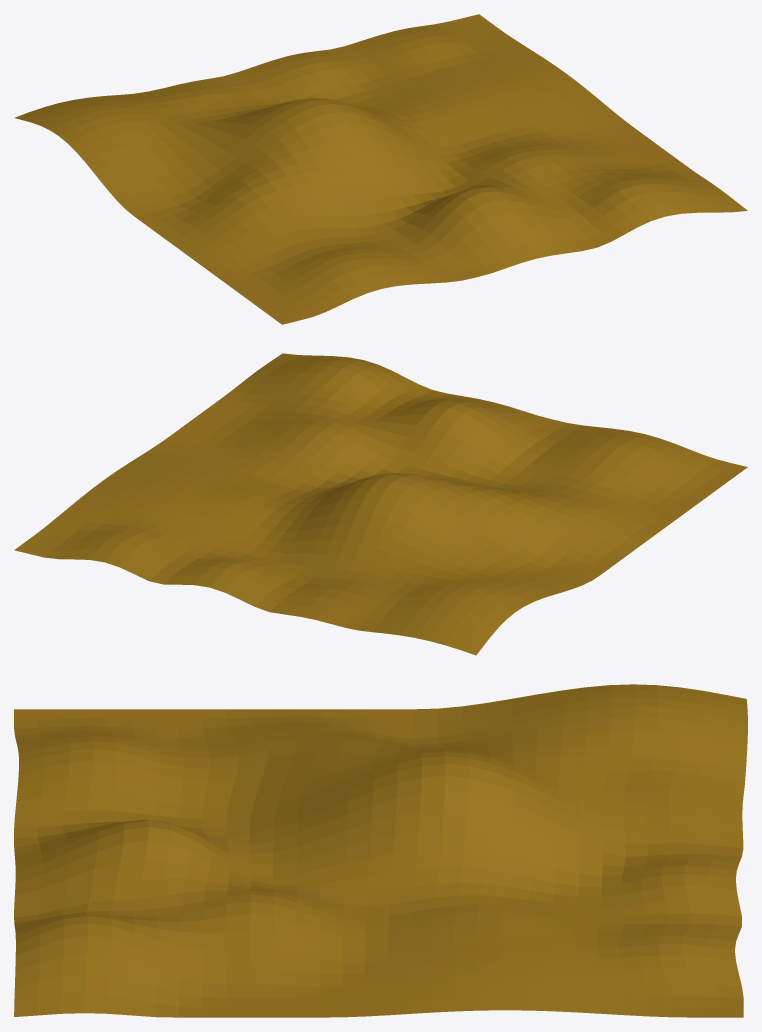
The model's file is sanddunes.glb.
3 views of the same model, one above another, from view 1: azimuth 30°, elevation 25°; view 2: azimuth 150°, elevation 25°; view 3: azimuth 270°, elevation 25° (orthographic). The views are drawn at different scales.
Parts seen in each view (by area): view 1: Plane; view 2: Plane; view 3: Plane.
Part boxes in pixels (x1,y1,x2,y2): Plane: (15, 14, 747, 324); Plane: (14, 353, 747, 655); Plane: (14, 684, 747, 1017).
Bounding box in the file's own units: 2 × 0.2253 × 2.01.
